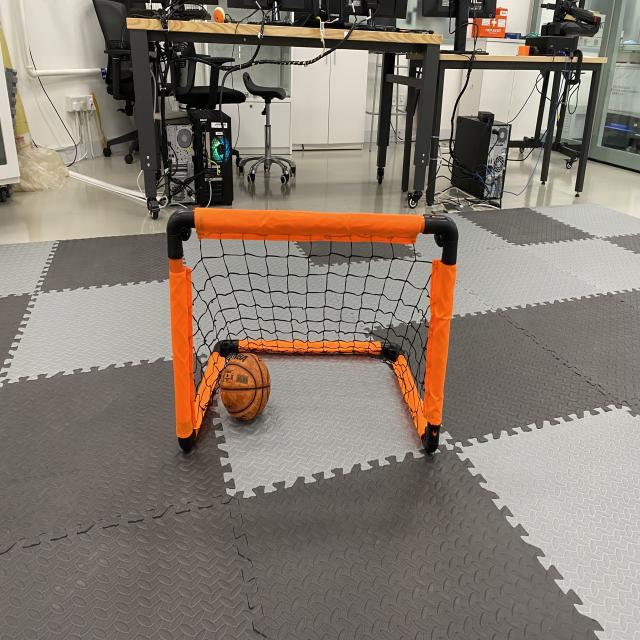ball: (217, 345, 276, 430)
gate: (162, 199, 464, 466)
